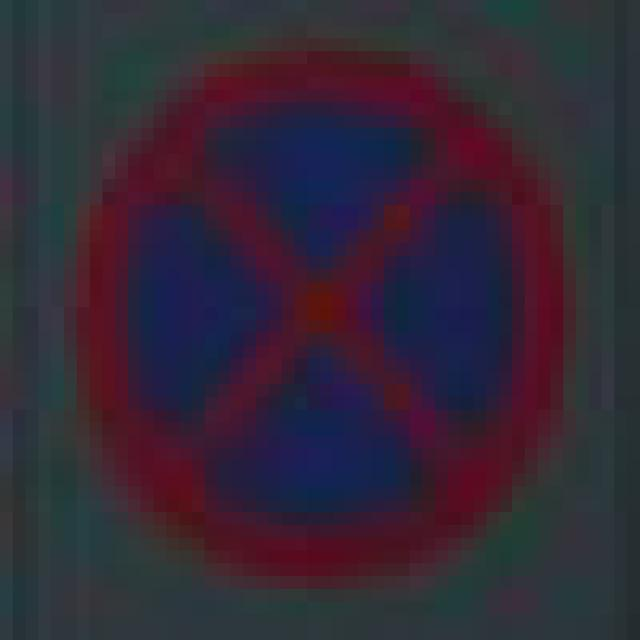NO_STOPPING_OR_STANDING: (64, 51, 563, 563)
